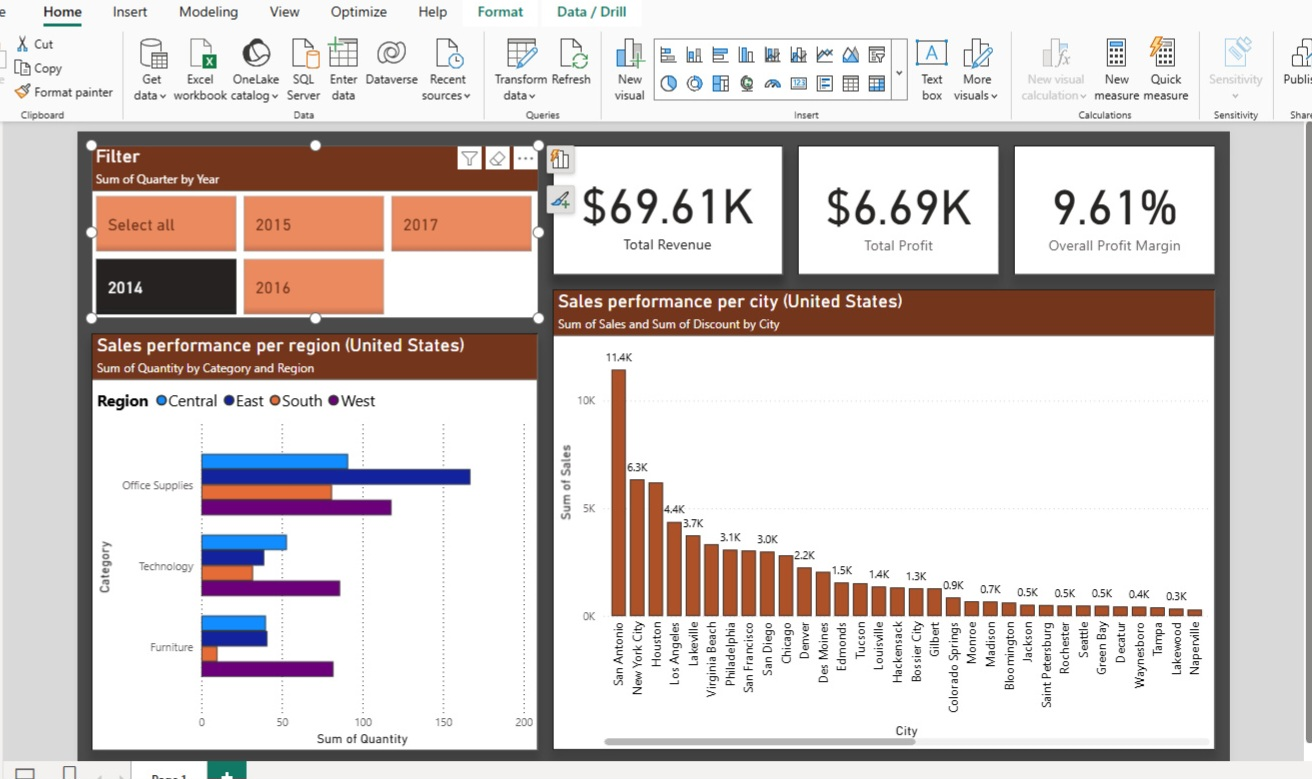

The dashboard page shown, as its layout file describes it:
{"tool":"powerbi","page":{"name":"Page 1","canvas":[1280,720],"ordinal":0},"visuals":[{"type":"card","fields":{"Values":["Cleaned Superstore.Total Revenue"]},"box":[528,16,256,144],"z":0},{"type":"card","fields":{"Values":["Cleaned Superstore.Total Profit"]},"box":[800,16,224,144],"z":1000},{"type":"card","fields":{"Values":["Cleaned Superstore.Overall Profit Margin"]},"box":[1040,16,224,144],"z":2000},{"type":"columnChart","title":"Sales performance per city (United States)","fields":{"Category":["Cleaned Superstore.City"],"Y":["Sum(Cleaned Superstore.Sales)"]},"box":[528,176,736,512],"z":3000},{"type":"advancedSlicerVisual","title":"Filter","fields":{"Values":["Year.Year"]},"box":[16,16,496,192],"z":4000},{"type":"clusteredBarChart","title":"Sales performance per region (United States)","fields":{"Series":["Cleaned Superstore.Region"],"Category":["Cleaned Superstore.Category"],"Y":["Sum(Cleaned Superstore.Quantity)"]},"box":[16,224,496,464],"z":5000}]}

Visuals, with their boxes on the page's 1280x720 design canvas (x1, y1, x2, y2). These are canvas units, not pixel positions in the 1312x779 screenshot, which may show the page scaled, cropped or inside an application window:
card - Cleaned Superstore.Total Revenue: <box>528,16,784,160</box>
card - Cleaned Superstore.Total Profit: <box>800,16,1024,160</box>
card - Cleaned Superstore.Overall Profit Margin: <box>1040,16,1264,160</box>
"Sales performance per city (United States)" columnChart: <box>528,176,1264,688</box>
"Filter" advancedSlicerVisual: <box>16,16,512,208</box>
"Sales performance per region (United States)" clusteredBarChart: <box>16,224,512,688</box>
